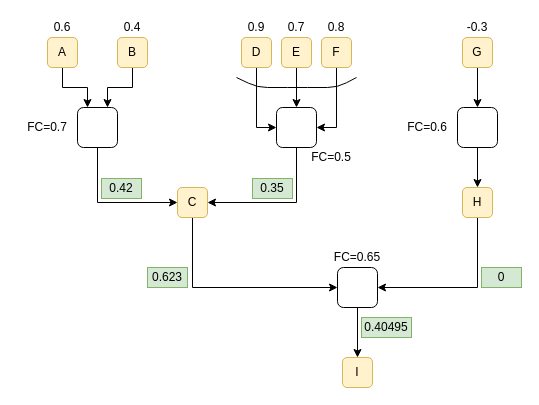
Image size: 539x405. Some labels were removed from this diagram. Each missing label, with the centre of its shape:
"R1" goes at (97,127).
"R2" goes at (296,127).
"R3" goes at (357,287).
"R4" goes at (477,127).
